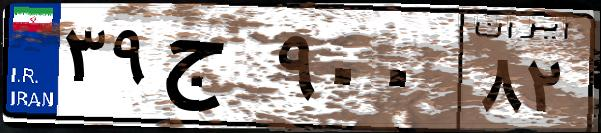0: (385, 28, 445, 110), (330, 28, 385, 110)
2: (525, 38, 570, 115)
3: (57, 26, 110, 100)
8: (475, 38, 525, 113)
9: (270, 28, 330, 110), (110, 28, 158, 98)
ج: (158, 20, 270, 120)
